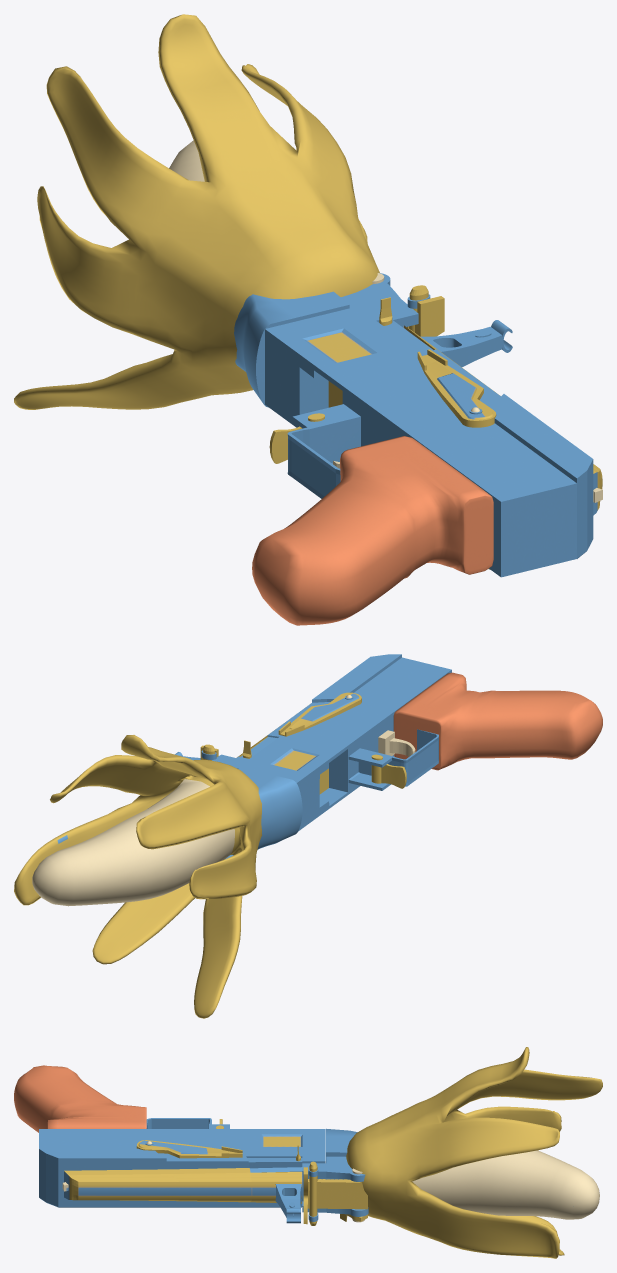
Rendered from PistOBanana.fbx.
3 renders of one model, top to bottom at view 1: azimuth 30°, elevation 25°; view 2: azimuth 150°, elevation 25°; view 3: azimuth 270°, elevation 25°, orthographic. The views are drawn at different scales.
Parts seen in each view (by area): view 1: PISToBanana; view 2: PISToBanana; view 3: PISToBanana.
Boxes of the visible parts, <box> form: PISToBanana: <box>14,14,602,625</box>; PISToBanana: <box>14,654,602,1018</box>; PISToBanana: <box>14,1047,602,1258</box>.
Size of the model in its own units: 0.5506 by 0.3037 by 0.24.
